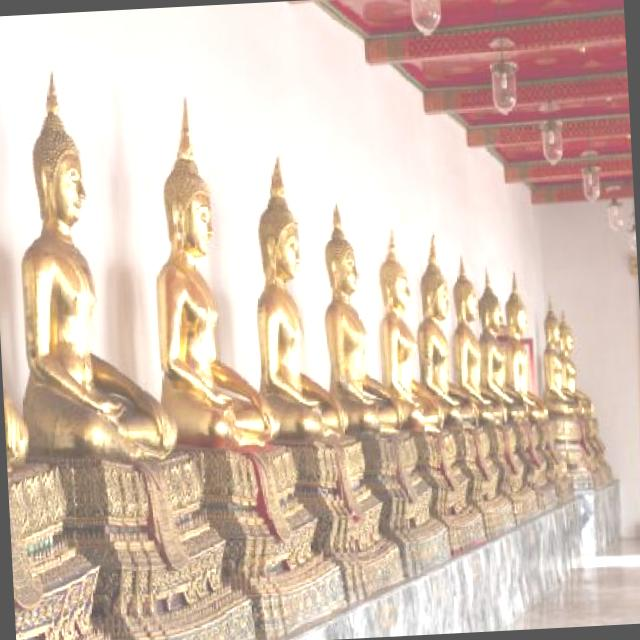Person: (7, 72, 185, 480), (142, 89, 283, 448), (245, 154, 358, 434), (316, 201, 412, 431), (374, 224, 449, 435), (416, 229, 477, 427), (454, 256, 502, 418), (500, 273, 552, 417), (478, 262, 518, 404), (538, 304, 584, 414), (562, 311, 595, 414), (4, 380, 32, 467)
